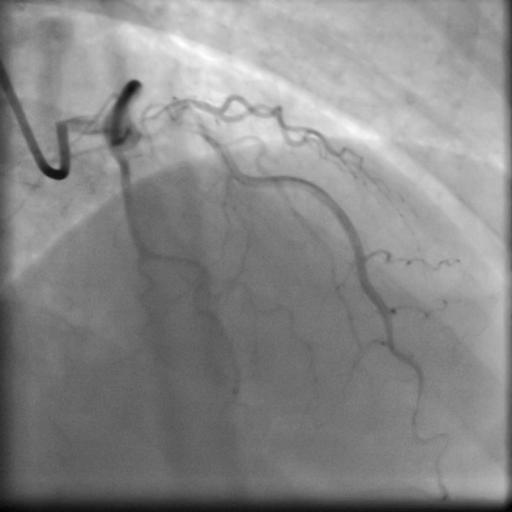Stenosis: (152, 118, 200, 138)
